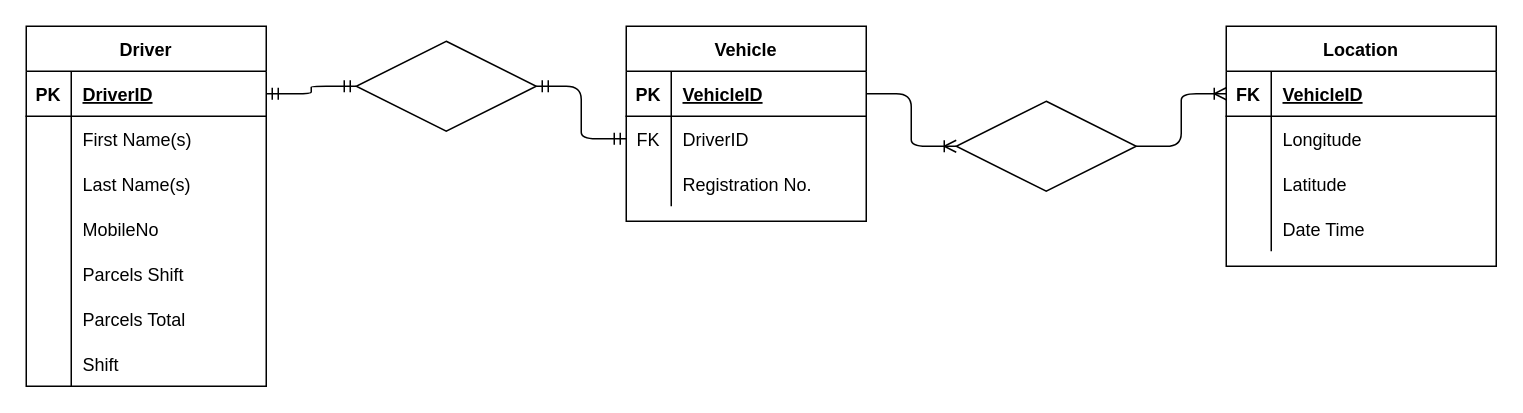
Image size: 1523x413. Some labels were removed from this diagram. The centre of each missing label's shape, as x and y in pixels:
"At location" belongs at (x=1045, y=145).
"Using Vehicle" belongs at (x=445, y=85).
